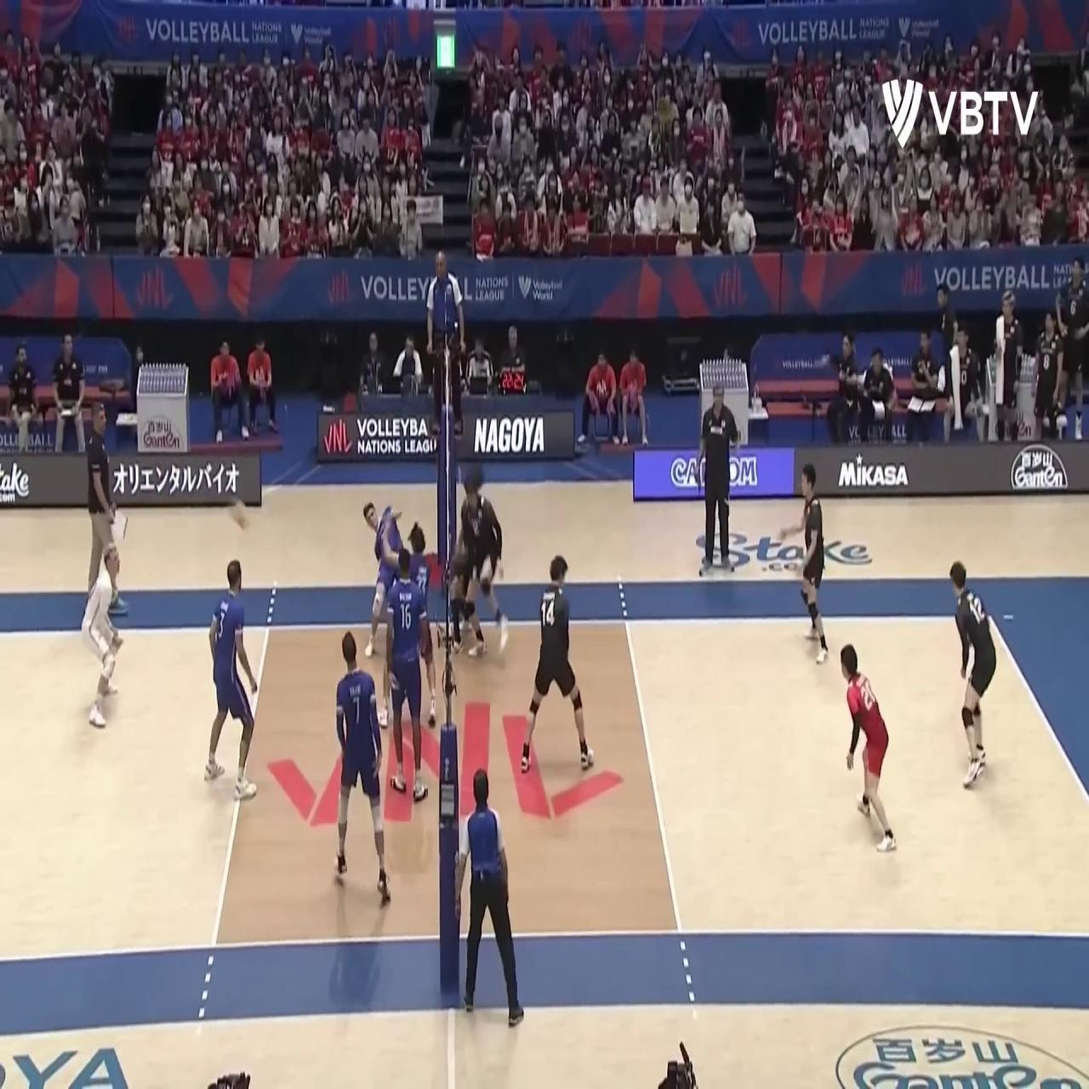ball: (230, 499, 249, 530)
